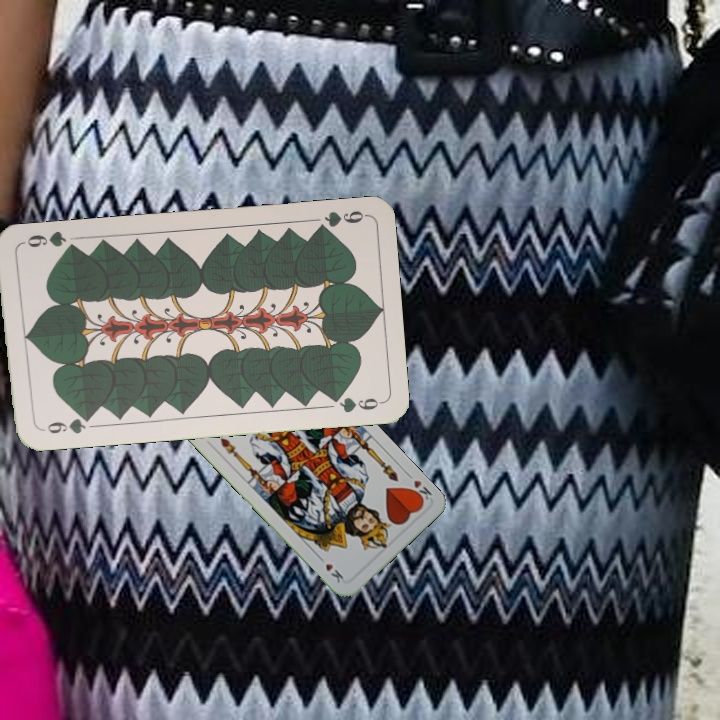G9: (311, 206, 369, 234), (35, 412, 94, 437)
HK: (402, 468, 434, 505)
